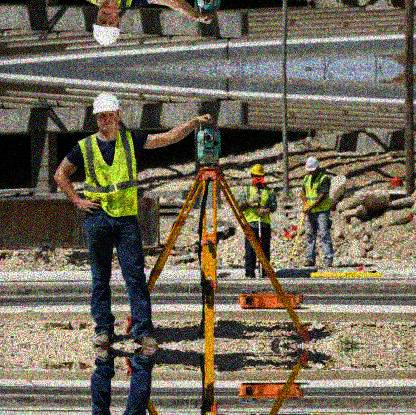helmet: (92, 3, 124, 46), (89, 93, 121, 131), (250, 162, 266, 186), (305, 157, 320, 178)
